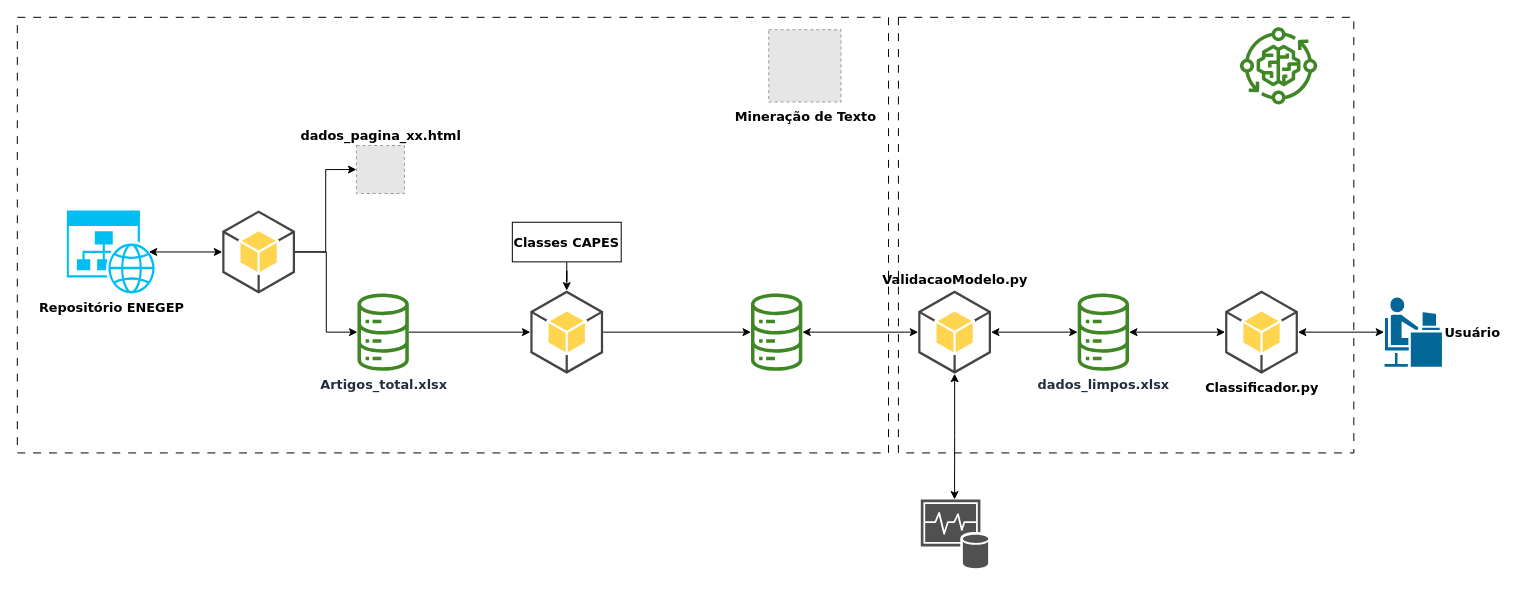
Some shapes in this 1518 by 609 pixel diagram are drawn without their labels. Grey dashed boxes stand in for pictures. The shapes that lost their labels are listed below. From the top down, each one's centre as x and y in pixels, then its label:
pixel 1278 65: Machine Learning
pixel 258 251: Buscador.py
pixel 566 332: PreparacaoBase.py
pixel 776 331: areas_pesquisa_com_CAPES.xlsx
pixel 954 533: Indicadores
